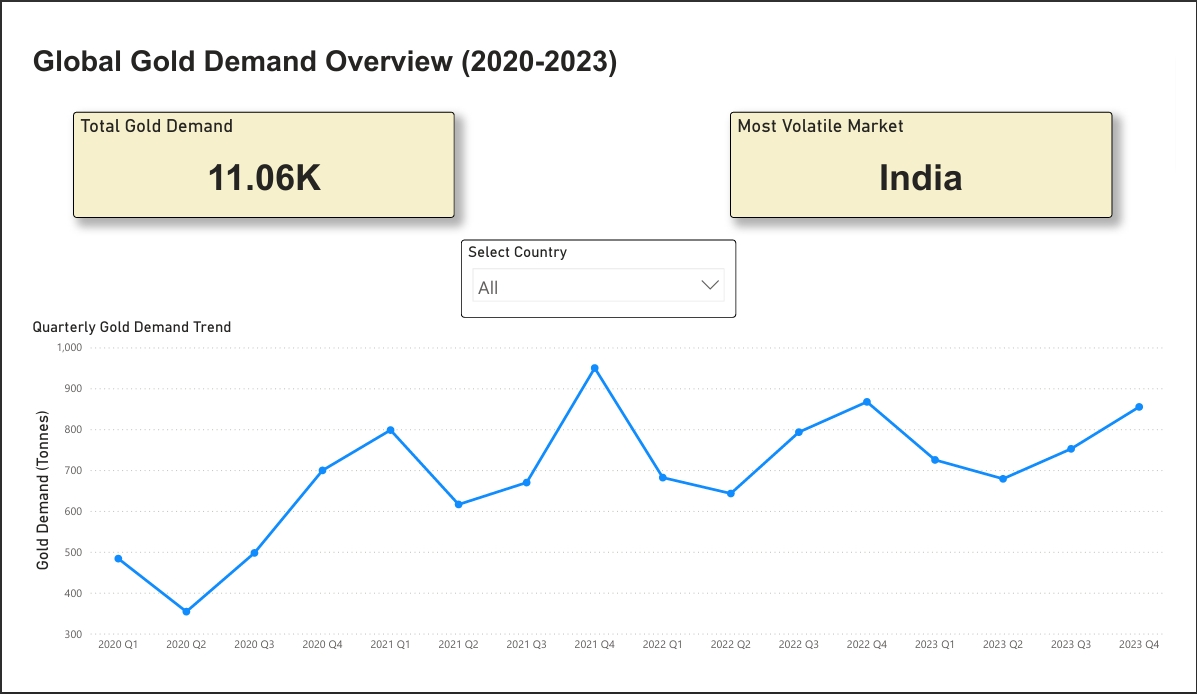

This screenshot's page, from the dashboard's own definition file:
{"tool":"powerbi","page":{"name":"Descriptive ","canvas":[1280,720],"ordinal":0},"visuals":[{"type":"lineChart","title":"Quarterly Gold Demand Trend","fields":{"Y":["Sum(gold_demand_clean.Gold_Demand_Tonnes)"],"Category":["gold_demand_clean.YearQuarter"]},"box":[5.1,326.8,1269.7,381.6],"z":0},{"type":"card","title":"Total Gold Demand","fields":{"Values":["gold_demand_clean.Total Gold Demand"]},"box":[54.8,97.5,424.4,118.1],"z":1000},{"type":"slicer","title":"Select Country","fields":{"Values":["gold_demand_clean.Country"]},"box":[486,239.6,306.3,87.3],"z":2000},{"type":"textbox","box":[5.1,18.8,675.9,61.6],"z":3000},{"type":"card","title":"Most Volatile Market","fields":{"Values":["gold_demand_clean.Most Volatile Country Name"]},"box":[785.5,97.5,424.4,118.1],"z":4000}]}

Visuals, with their boxes in screenshot pixels (x1, y1, x2, y2), scaled from the page's 1280x720 canvas onto the 1197x694 screenshot:
"Quarterly Gold Demand Trend" lineChart: left=5, top=315, right=1192, bottom=683
"Total Gold Demand" card: left=51, top=94, right=448, bottom=208
"Select Country" slicer: left=454, top=231, right=741, bottom=315
textbox: left=5, top=18, right=637, bottom=77
"Most Volatile Market" card: left=735, top=94, right=1131, bottom=208
